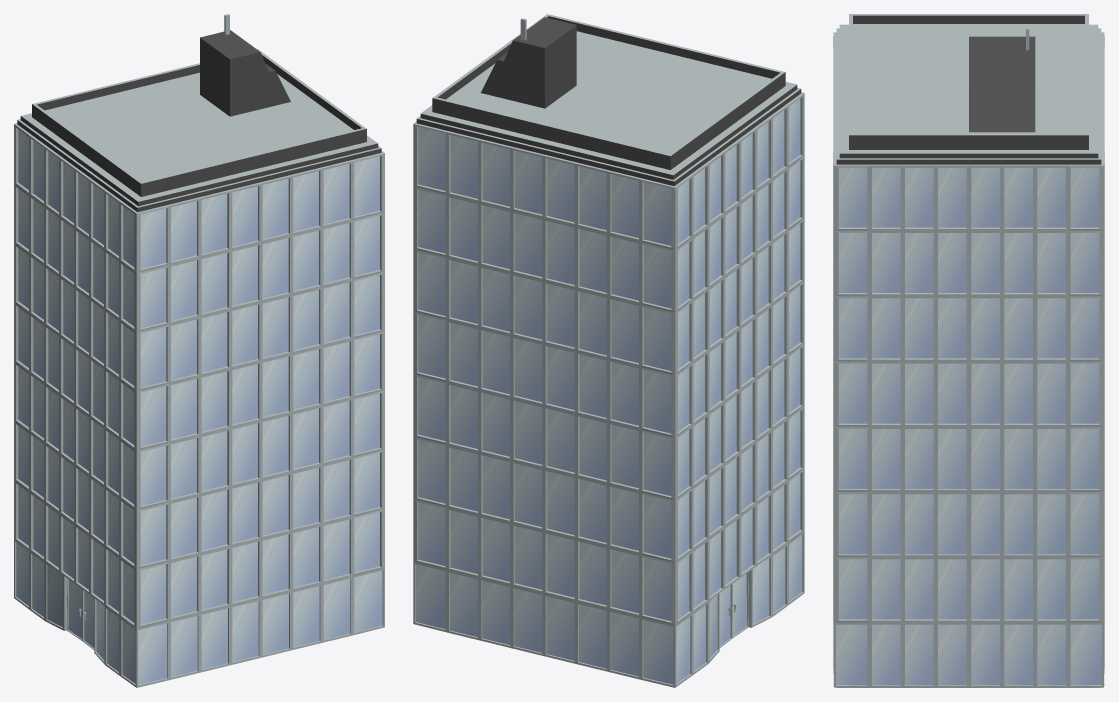
File: Building02WTextures.fbx
3 renders of one model, left to right at view 1: azimuth 30°, elevation 25°; view 2: azimuth 150°, elevation 25°; view 3: azimuth 270°, elevation 25°, orthographic. The views are drawn at different scales.
Parts seen in each view (by area): view 1: pCube2; view 2: pCube2; view 3: pCube2.
Part boxes in pixels (box(x1,y1,x2,y2)): pCube2: box(14, 14, 384, 687); pCube2: box(413, 14, 804, 687); pCube2: box(833, 14, 1104, 687).
Size of the model in its own units: 34.93 by 75.76 by 29.93.
